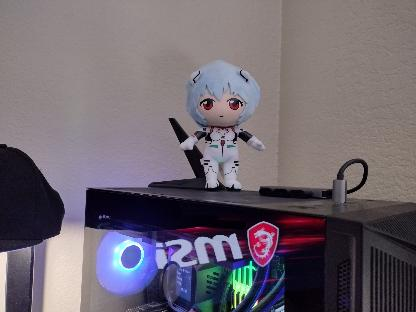rei-plush: (176, 56, 272, 196)
